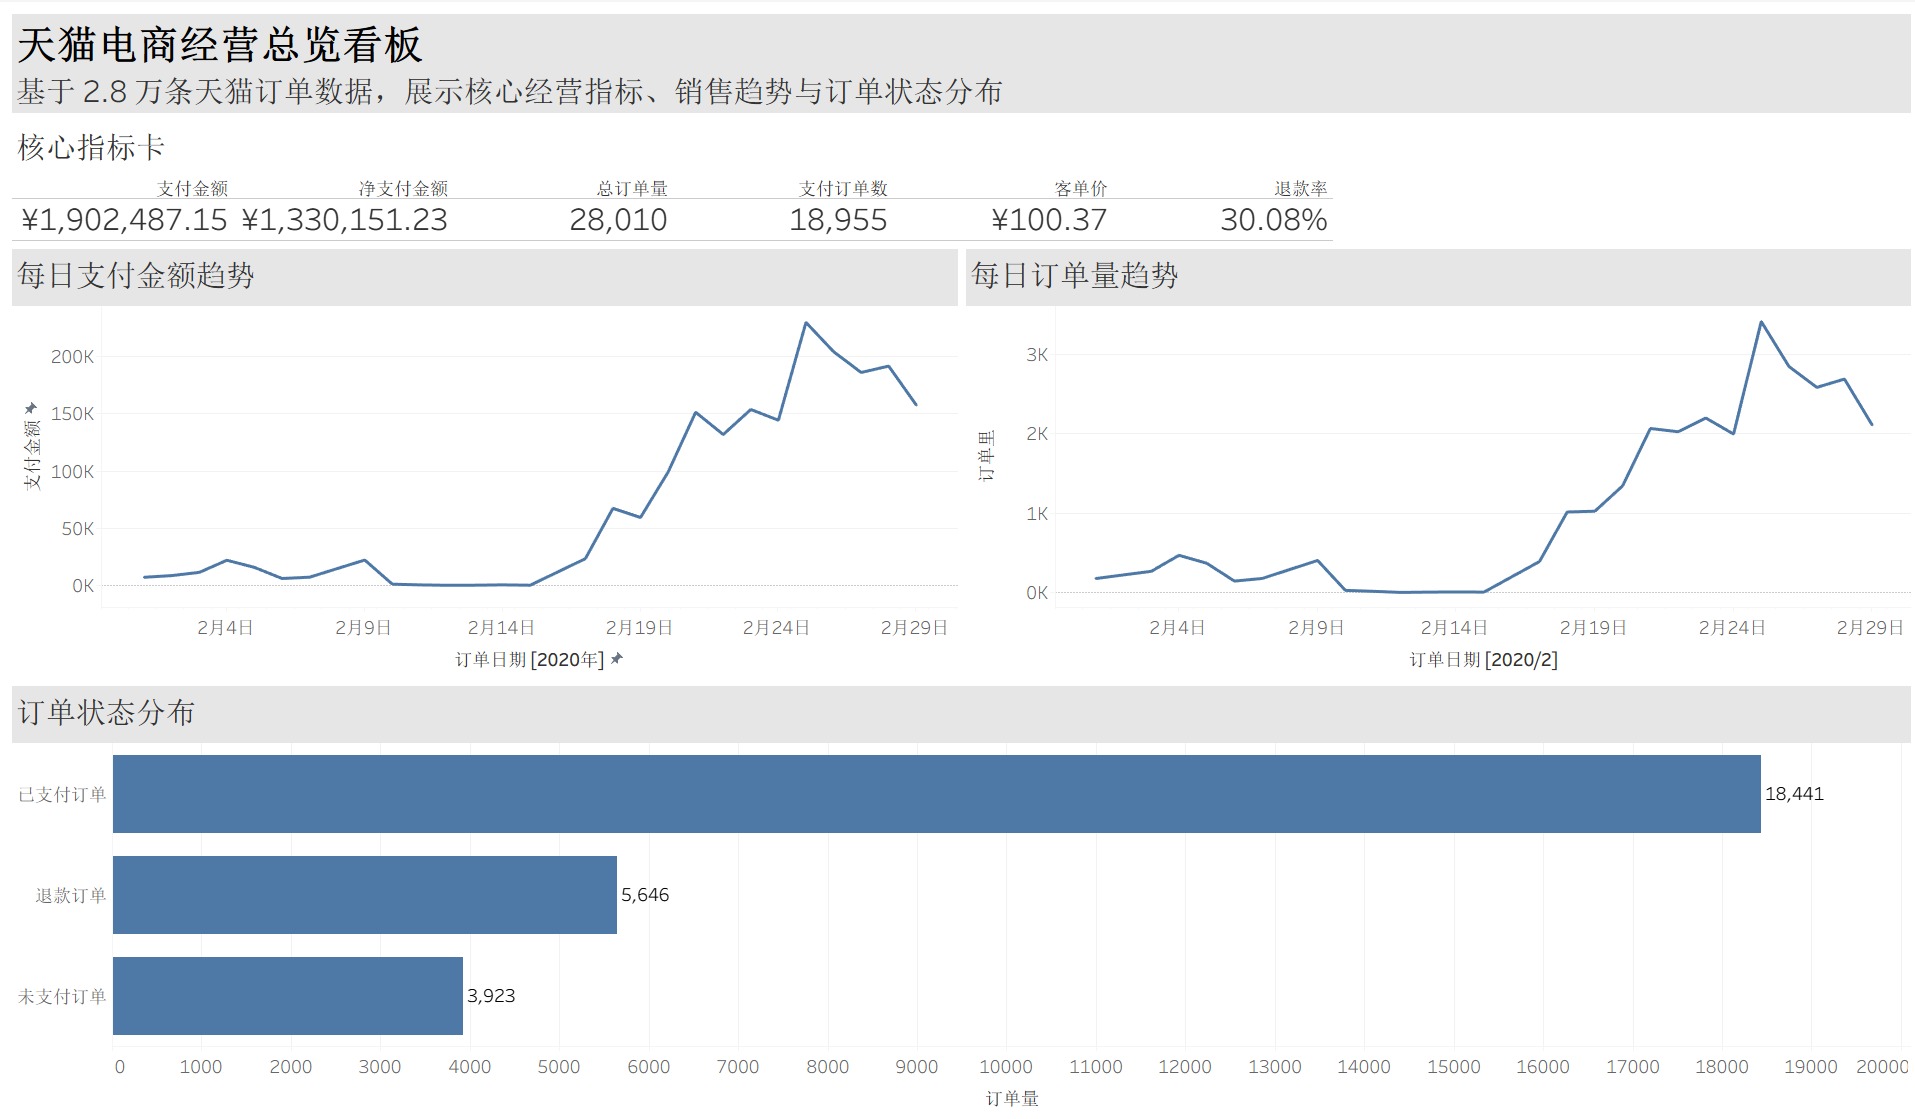

Layout of this report page (visuals, bound fields, positions):
{"tool":"tableau","page":{"name":"01_经营总览看板","canvas":[1000,1000],"units":"permille","ordinal":0},"visuals":[{"type":"title","box":[4.2,7.1,991.7,94.9]},{"type":"worksheet","title":"核心指标卡","mark":"Automatic","box":[4.2,102,991.7,113.6]},{"type":"worksheet","title":"每日支付金额趋势","mark":"Line","rows":["paid_amount"],"cols":["order_date"],"box":[4.2,215.6,495.8,387.8]},{"type":"worksheet","title":"每日订单量趋势","mark":"Line","rows":["total_order_cnt"],"cols":["order_date"],"box":[500,215.6,495.8,387.8]},{"type":"worksheet","title":"订单状态分布","mark":"Bar","rows":["order_status"],"cols":["order_cnt"],"box":[4.2,603.4,991.7,389.5]}]}

Visuals, with their boxes on the dashboard's canvas, which has no fixed pixel size, in thousandths of its width and height (x1, y1, x2, y2). These are canvas units, not pixel positions in the 1915x1119 screenshot, which may show the page scaled, cropped or inside an application window:
title: bbox=(4, 7, 996, 102)
"核心指标卡" worksheet: bbox=(4, 102, 996, 216)
"每日支付金额趋势" worksheet (Line marks): bbox=(4, 216, 500, 603)
"每日订单量趋势" worksheet (Line marks): bbox=(500, 216, 996, 603)
"订单状态分布" worksheet (Bar marks): bbox=(4, 603, 996, 993)
